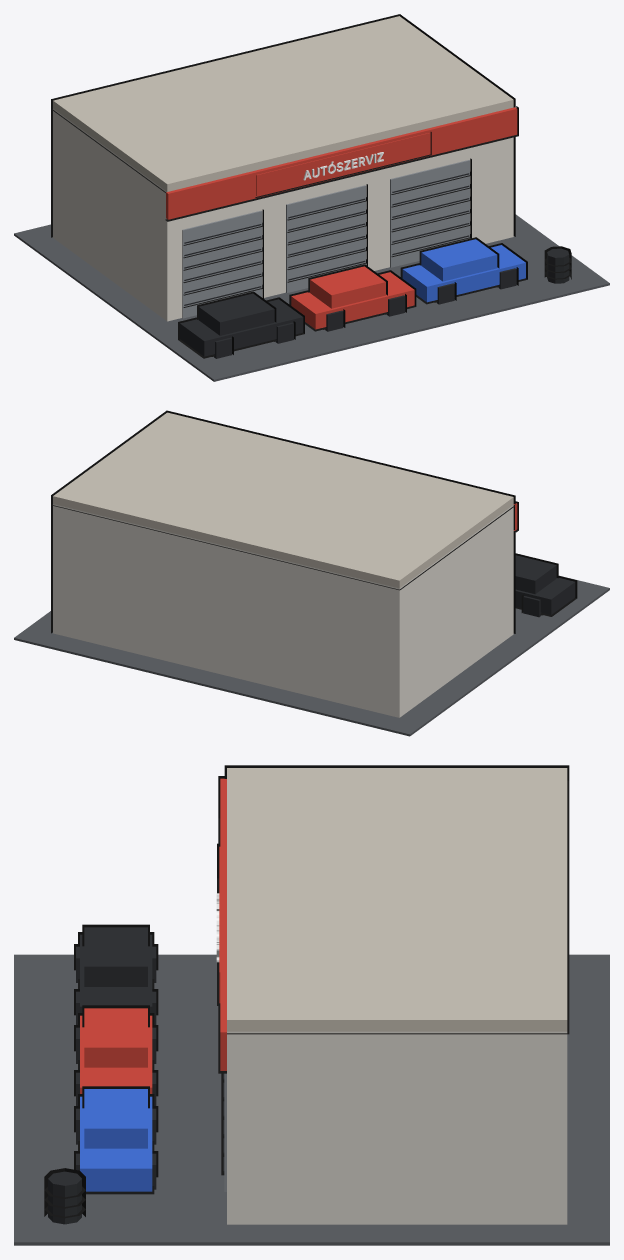
Rendered from Sanayi_garaj_1.fbx.
3 views of the same model, one above another, from view 1: azimuth 30°, elevation 25°; view 2: azimuth 150°, elevation 25°; view 3: azimuth 270°, elevation 25° (orthographic). The views are drawn at different scales.
Parts seen in each view (by area): view 1: Sanayi_garaj_1; view 2: Sanayi_garaj_1; view 3: Sanayi_garaj_1.
Part boxes in pixels (left/top/right/bottom): Sanayi_garaj_1: left=14, top=14, right=609, bottom=381; Sanayi_garaj_1: left=14, top=410, right=609, bottom=736; Sanayi_garaj_1: left=14, top=765, right=609, bottom=1245.
Bounding box in the file's own units: 16 × 5.43 × 14.
